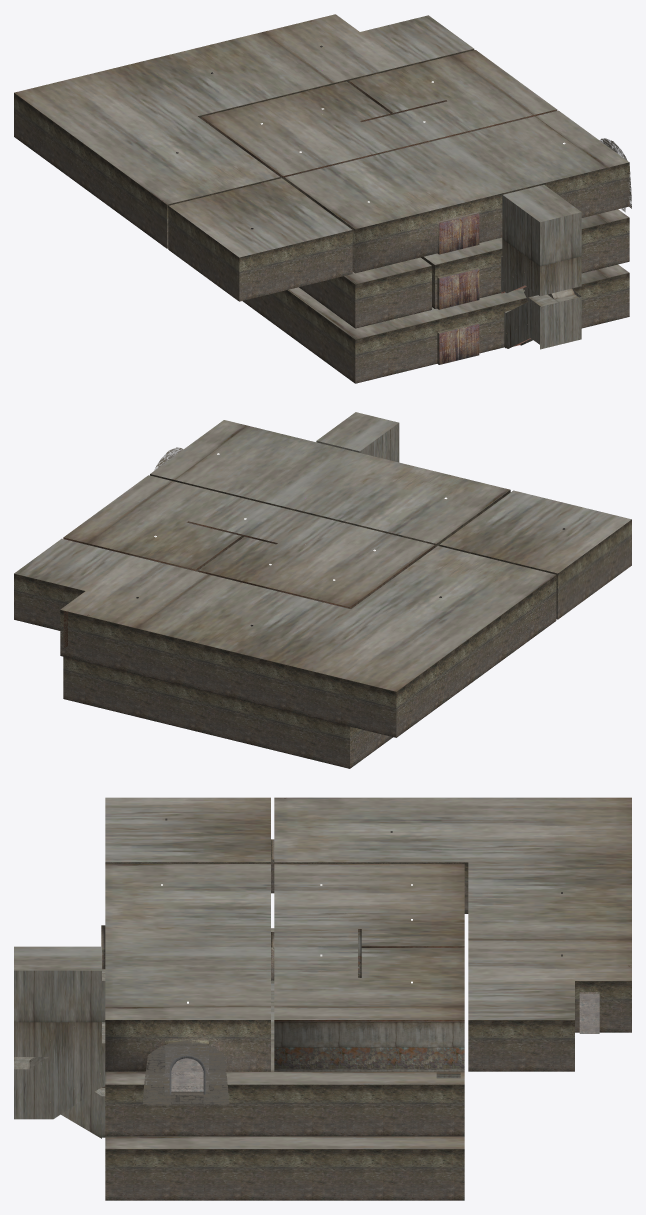
The model's file is RE_Bsmt.glb.
3 renders of one model, top to bottom at view 1: azimuth 30°, elevation 25°; view 2: azimuth 150°, elevation 25°; view 3: azimuth 270°, elevation 25°, orthographic. The views are drawn at different scales.
Parts seen in each view (by area): view 1: 04 Mesh2, 02 Mesh0, 06 Mesh4, 07 Mesh5, 05 Mesh5, 04 Mesh10, 03 Mesh4, 03 Mesh0, 02 Mesh8, 06 Mesh1, 05 Mesh1, 07 Mesh2 (+7 smaller); view 2: 04 Mesh2, 02 Mesh0, 02 Mesh8, 06 Mesh4, 03 Mesh0, 03 Mesh4, 02 Mesh8.001, 07 Mesh2, 04 Mesh2.001, 04 Mesh0, 07 Mesh5, 04 Mesh10; view 3: 04 Mesh2, 02 Mesh0, 06 Mesh4, 05 Mesh5, 07 Mesh5, 03 Mesh0, 04 Mesh0, 02 Mesh8, 04 Mesh10, 06 Mesh1, 05 Mesh1, 04 Mesh7 (+5 smaller).
Part boxes in pixels (x1=…): 04 Mesh2: x1=202, y1=50, x2=628, y2=229; 02 Mesh0: x1=14, y1=14, x2=473, y2=204; 06 Mesh4: x1=242, y1=272, x2=629, y2=383; 07 Mesh5: x1=501, y1=195, x2=581, y2=349; 05 Mesh5: x1=299, y1=217, x2=629, y2=328; 04 Mesh10: x1=284, y1=162, x2=629, y2=273; 03 Mesh4: x1=168, y1=206, x2=352, y2=301; 03 Mesh0: x1=169, y1=178, x2=352, y2=257; 02 Mesh8: x1=14, y1=49, x2=474, y2=248; 06 Mesh1: x1=288, y1=264, x2=628, y2=339; 05 Mesh1: x1=344, y1=209, x2=628, y2=284; 07 Mesh2: x1=503, y1=185, x2=581, y2=222; 04 Mesh2: x1=63, y1=420, x2=510, y2=607; 02 Mesh0: x1=14, y1=538, x2=555, y2=691; 02 Mesh8: x1=14, y1=573, x2=556, y2=737; 06 Mesh4: x1=63, y1=656, x2=392, y2=768; 03 Mesh0: x1=440, y1=490, x2=631, y2=573; 03 Mesh4: x1=439, y1=519, x2=631, y2=619; 02 Mesh8.001: x1=63, y1=578, x2=551, y2=735; 07 Mesh2: x1=317, y1=412, x2=398, y2=451; 04 Mesh2.001: x1=151, y1=455, x2=386, y2=605; 04 Mesh0: x1=63, y1=521, x2=434, y2=608; 07 Mesh5: x1=316, y1=423, x2=399, y2=462; 04 Mesh10: x1=150, y1=474, x2=510, y2=547; 04 Mesh2: x1=105, y1=863, x2=464, y2=1019; 02 Mesh0: x1=274, y1=797, x2=631, y2=1019; 06 Mesh4: x1=101, y1=1086, x2=464, y2=1200; 05 Mesh5: x1=105, y1=1084, x2=464, y2=1136; 07 Mesh5: x1=14, y1=970, x2=105, y2=1138; 03 Mesh0: x1=105, y1=797, x2=270, y2=862; 04 Mesh0: x1=274, y1=929, x2=464, y2=1071; 02 Mesh8: x1=274, y1=862, x2=631, y2=1071; 04 Mesh10: x1=101, y1=925, x2=274, y2=1071; 06 Mesh1: x1=105, y1=1136, x2=464, y2=1148; 05 Mesh1: x1=105, y1=928, x2=464, y2=1084; 04 Mesh7: x1=143, y1=1040, x2=229, y2=1105.
Size of the model in its own units: 38.75 by 19.1 by 43.42.
24 materials, 21 textured.
